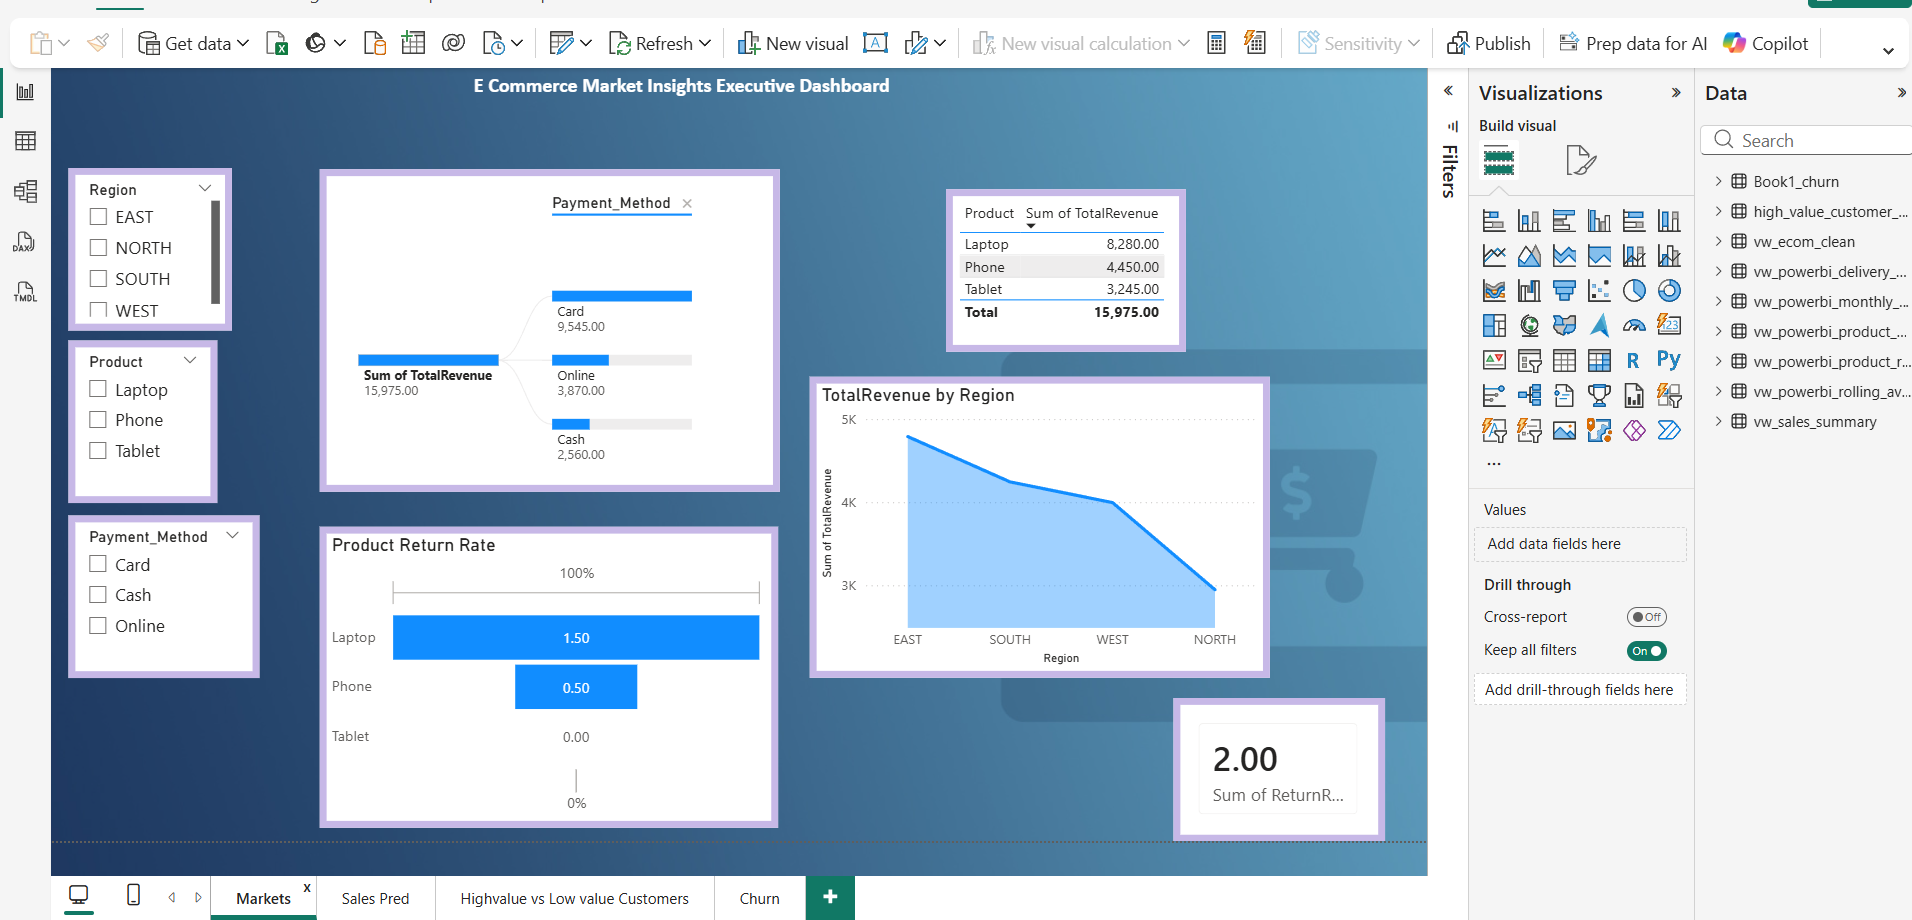

The page's visual inventory and layout, read from the dashboard file:
{"tool":"powerbi","page":{"name":"Markets","canvas":[1280,720],"ordinal":0},"visuals":[{"type":"funnel","title":"Product Return Rate","fields":{"Category":["vw_sales_summary.Product"],"Y":["Sum(vw_sales_summary.ReturnRate)"]},"box":[250,426.7,426.7,280.2],"z":0},{"type":"stackedAreaChart","title":"TotalRevenue by Region","fields":{"Category":["vw_sales_summary.Region"],"Y":["Sum(vw_sales_summary.TotalRevenue)"]},"box":[705.8,287.2,427.9,280.2],"z":1000},{"type":"tableEx","fields":{"Values":["vw_sales_summary.Product","Sum(vw_sales_summary.TotalRevenue)"]},"box":[832.6,112.8,223.3,151.2],"z":2000},{"type":"decompositionTreeVisual","fields":{"ExplainBy":["vw_sales_summary.Payment_Method"],"Analyze":["Sum(vw_sales_summary.TotalRevenue)"]},"box":[250,94.2,427.9,300],"z":3000},{"type":"slicer","fields":{"Values":["vw_sales_summary.Region"]},"box":[16.3,93,152.3,151.2],"z":4000},{"type":"slicer","fields":{"Values":["vw_sales_summary.Product"]},"box":[16.3,253.5,138.4,151.2],"z":5000},{"type":"cardVisual","fields":{"Data":["Sum(vw_sales_summary.ReturnRate)"]},"box":[1044.2,586,196.5,133.7],"z":6000},{"type":"slicer","fields":{"Values":["vw_sales_summary.Payment_Method"]},"box":[16.3,416.3,177.9,151.2],"z":7000},{"type":"textbox","box":[388.9,0,416.7,37.8],"z":8000}]}

Visuals, with their boxes on the page's 1280x720 design canvas (x1, y1, x2, y2). These are canvas units, not pixel positions in the 1912x920 screenshot, which may show the page scaled, cropped or inside an application window:
"Product Return Rate" funnel: Rect(250, 427, 677, 707)
"TotalRevenue by Region" stackedAreaChart: Rect(706, 287, 1134, 567)
tableEx - vw_sales_summary.Product x Sum(vw_sales_summary.TotalRevenue): Rect(833, 113, 1056, 264)
decompositionTreeVisual - vw_sales_summary.Payment_Method x Sum(vw_sales_summary.TotalRevenue): Rect(250, 94, 678, 394)
slicer - vw_sales_summary.Region: Rect(16, 93, 169, 244)
slicer - vw_sales_summary.Product: Rect(16, 254, 155, 405)
cardVisual - Sum(vw_sales_summary.ReturnRate): Rect(1044, 586, 1241, 720)
slicer - vw_sales_summary.Payment_Method: Rect(16, 416, 194, 568)
textbox: Rect(389, 0, 806, 38)
